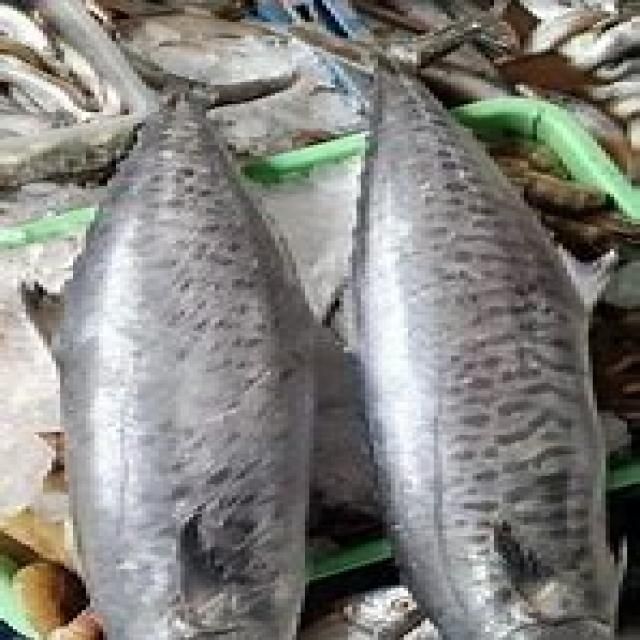seer: (300, 17, 619, 637)
